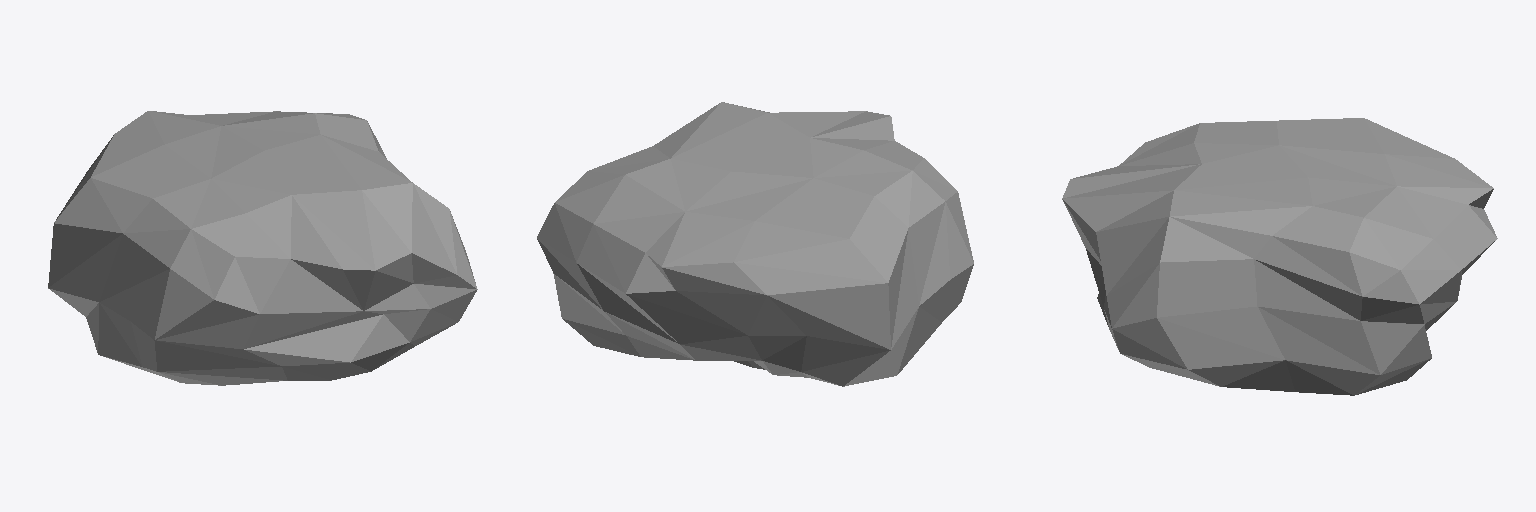
The model's file is Rock.obj.
3 renders of one model, left to right at view 1: azimuth 30°, elevation 25°; view 2: azimuth 150°, elevation 25°; view 3: azimuth 270°, elevation 25°, orthographic.
Visible parts, largest first — view 1: Cube; view 2: Cube; view 3: Cube.
Boxes of the visible parts, box(x1,y1,x2,y2) form: Cube: box(48, 111, 477, 385); Cube: box(537, 102, 973, 386); Cube: box(1062, 118, 1497, 395).
Bounding box in the file's own units: 1.01 × 0.533 × 1.15.